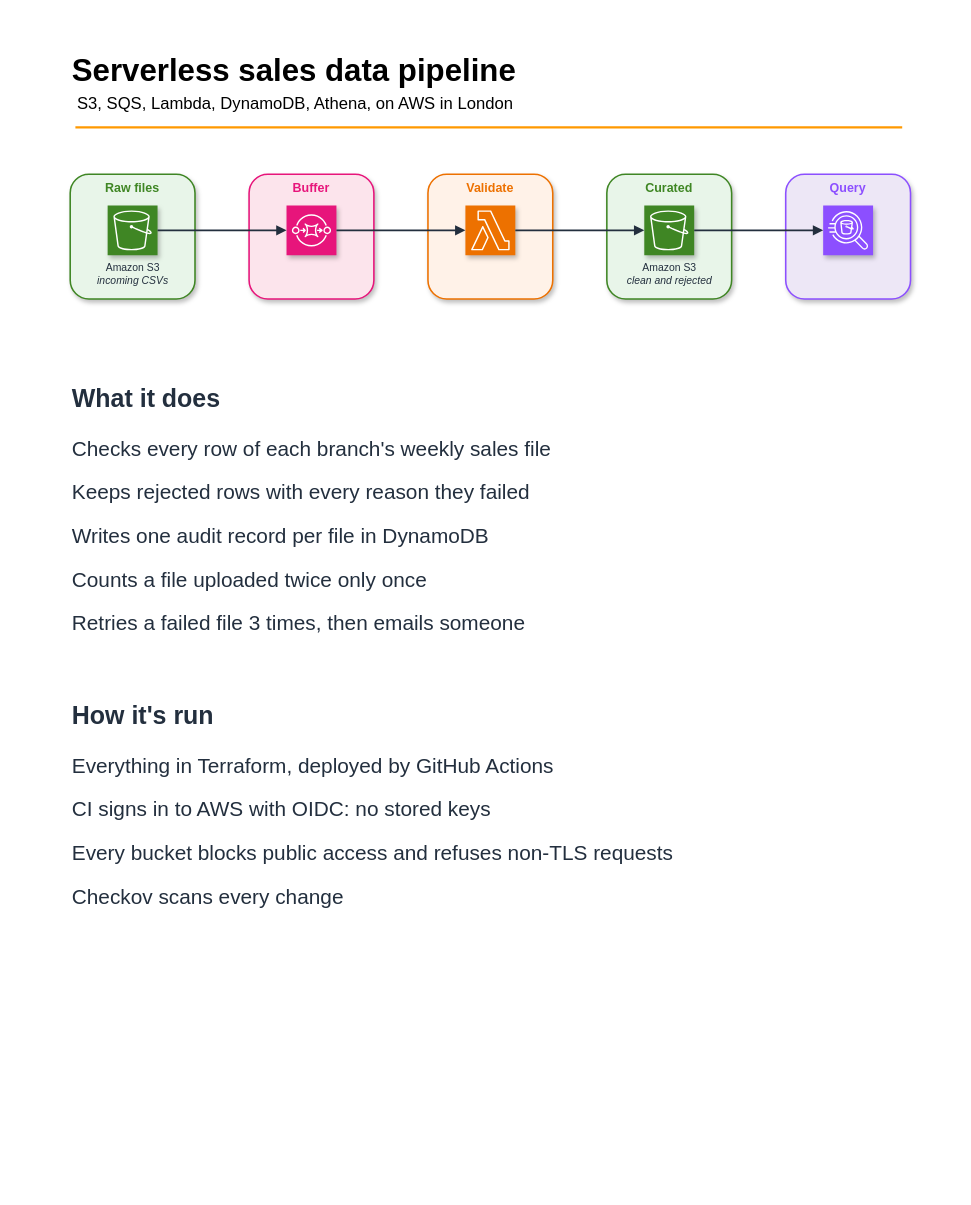
Image size: 971x1205. Some labels were removed from this diagram. The centre of each missing label's shape, as x and y in pixels:
"Amazon Athena SQL reports" goes at point 848,231.
"Amazon SQS retried 3 times" goes at point 312,231.
"AWS Lambda every row" goes at point 491,231.
